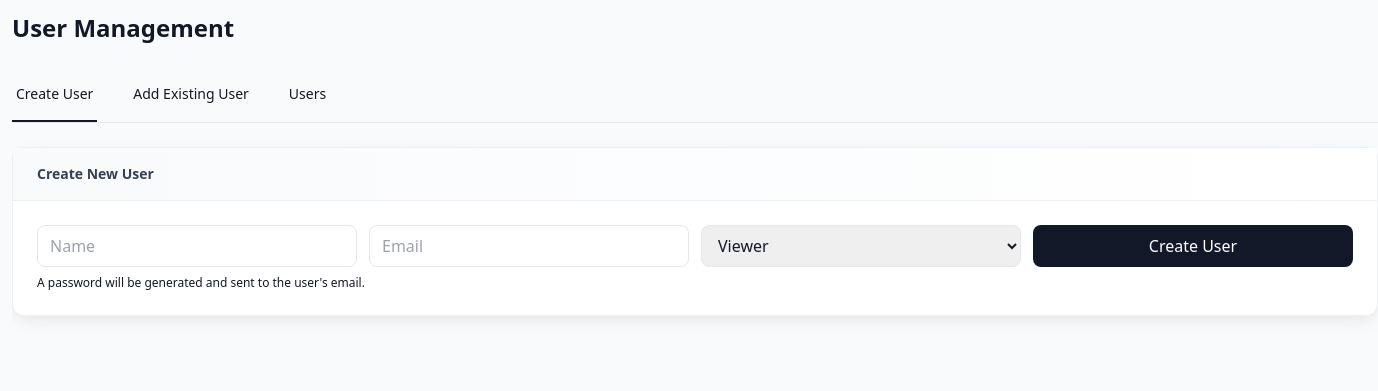
Scenario: UserManagementPage › should display users list
The width and height of the screenshot is (1378, 391).
Click the button "Users" at {"x": 307, "y": 95}, box [285,68,330,122]
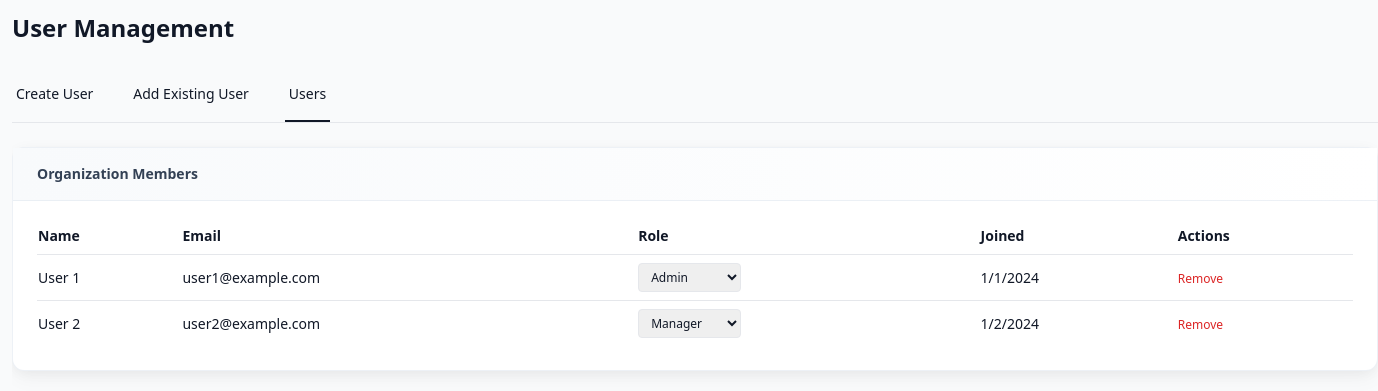
Expected: the text "user1@example.com" is shown, [181,254,637,300]
